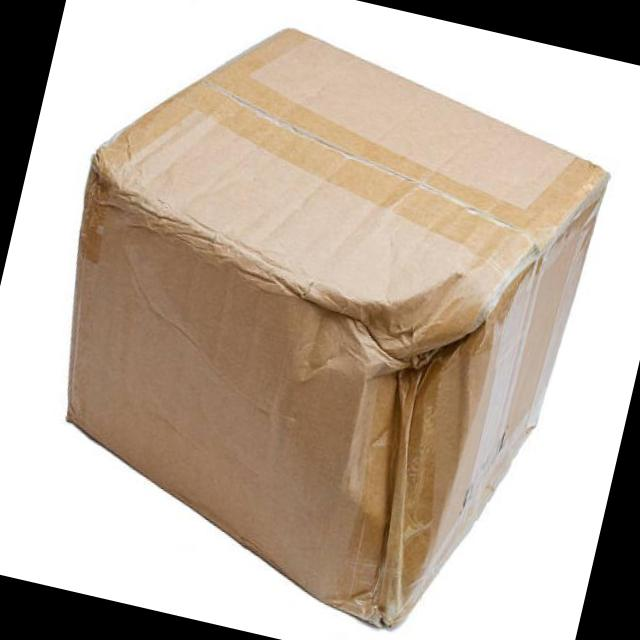box: (67, 28, 611, 634)
crushed: (291, 269, 509, 430)
